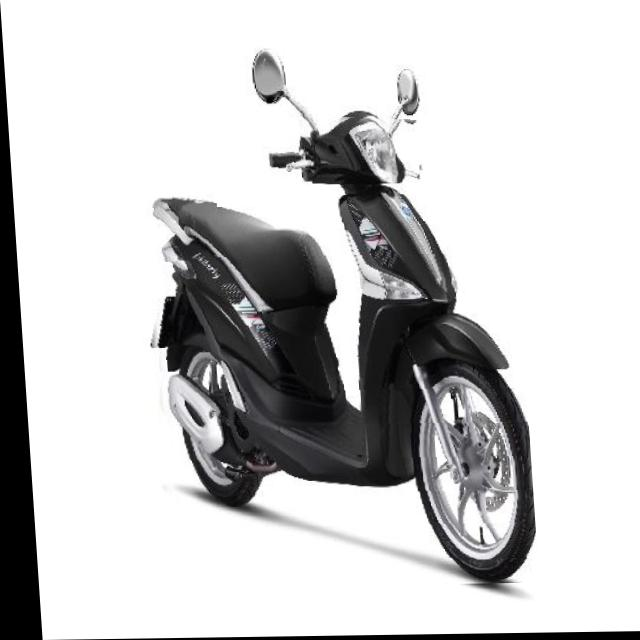All: (127, 102, 531, 589)
Head: (264, 112, 418, 186)
Tail: (146, 192, 217, 263)
